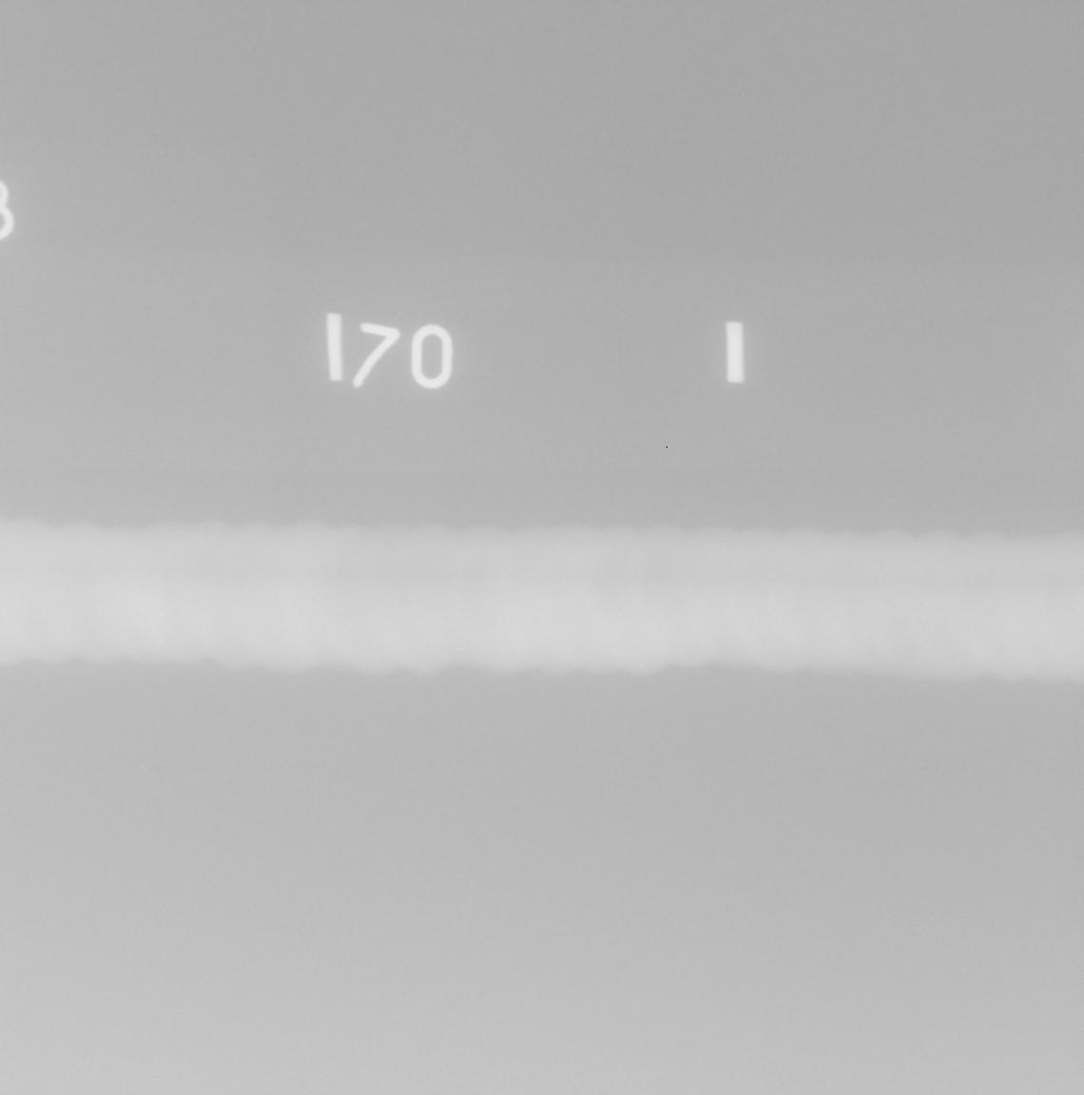Inclusion: (690, 642, 700, 656)
